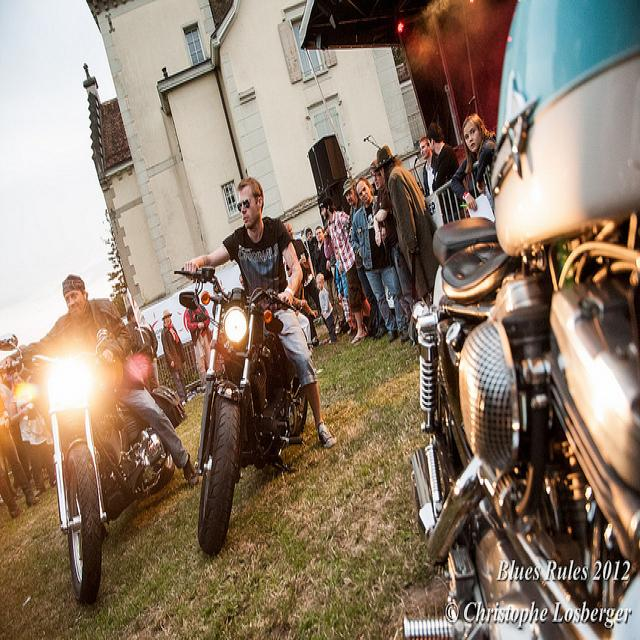motor: (404, 5, 640, 635), (34, 339, 190, 605), (174, 266, 306, 554)
